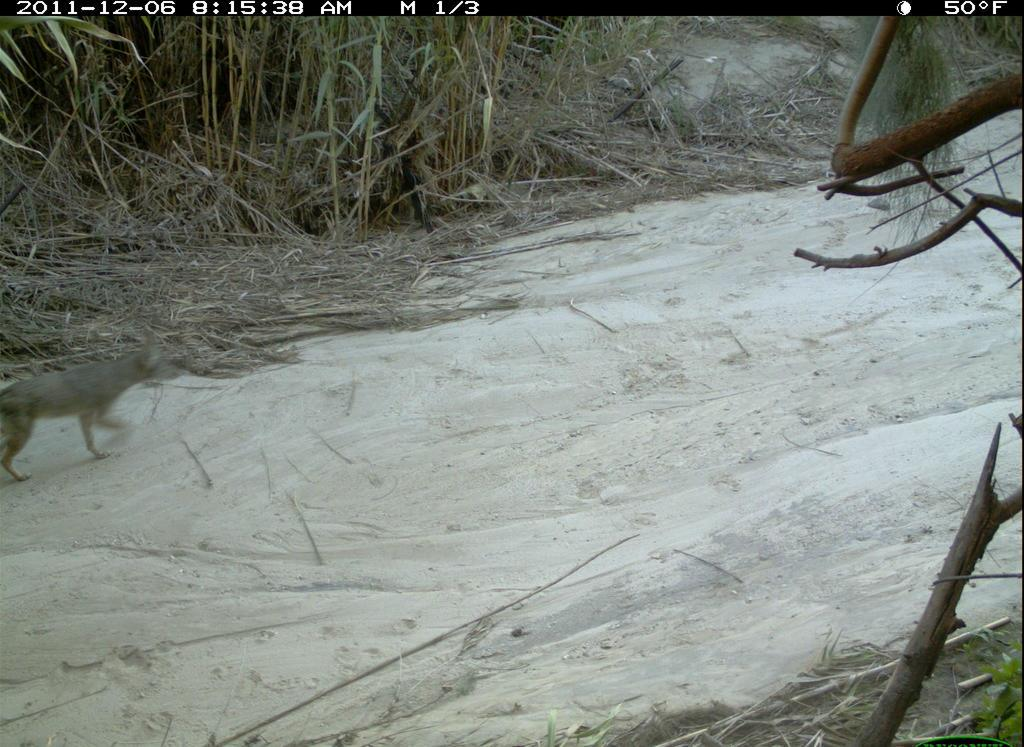coyote: (1, 327, 194, 493)
